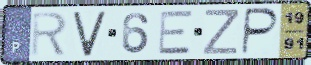6: (121, 11, 151, 55)
E: (157, 9, 194, 56)
P: (239, 7, 281, 57)
R: (30, 10, 70, 58)
V: (71, 9, 108, 58)
Z: (201, 8, 240, 56)
